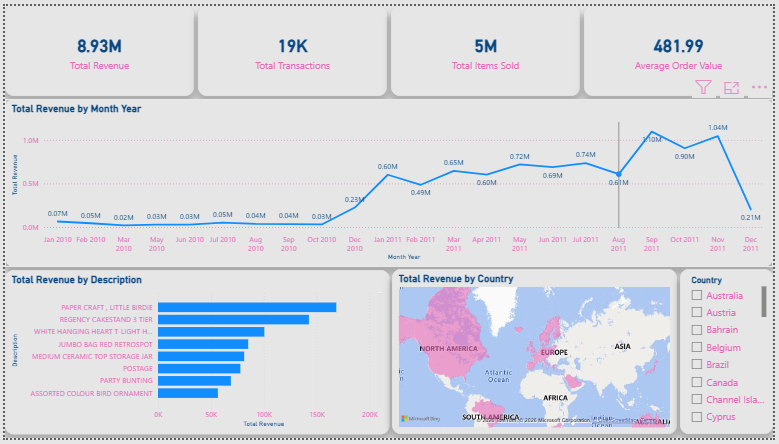

Layout of this report page (visuals, bound fields, positions):
{"tool":"powerbi","page":{"name":"Executive Sales Overview","canvas":[1280,720],"ordinal":0},"visuals":[{"type":"card","fields":{"Values":["_Measures.Total Revenue"]},"box":[0,0,315,150],"z":0},{"type":"card","fields":{"Values":["_Measures.Total Transactions"]},"box":[321,0,315,150],"z":1000},{"type":"card","fields":{"Values":["_Measures.Total Items Sold"]},"box":[643,0,315,150],"z":2000},{"type":"card","fields":{"Values":["_Measures.Average Order Value"]},"box":[965,0,315,150],"z":3000},{"type":"lineChart","fields":{"Category":["DateTable.Month Year"],"Y":["_Measures.Total Revenue"]},"box":[0,155.5,1280,280],"z":3500},{"type":"clusteredBarChart","fields":{"Category":["public online_retail_clean.Description"],"Y":["_Measures.Total Revenue"]},"box":[0,440.7,640.8,273.7],"z":4000},{"type":"filledMap","fields":{"Category":["public online_retail_clean.Country"]},"box":[645,438.8,475,275],"z":5000},{"type":"slicer","fields":{"Values":["public online_retail_clean.Country"]},"box":[1124.5,438.8,155.5,275],"z":6000}]}

Visuals, with their boxes in screenshot pixels (x1, y1, x2, y2), scaled from the page's 1280x720 canvas onto the 779x444 screenshot:
card - _Measures.Total Revenue: {"x1": 0, "y1": 0, "x2": 192, "y2": 92}
card - _Measures.Total Transactions: {"x1": 195, "y1": 0, "x2": 387, "y2": 92}
card - _Measures.Total Items Sold: {"x1": 391, "y1": 0, "x2": 583, "y2": 92}
card - _Measures.Average Order Value: {"x1": 587, "y1": 0, "x2": 778, "y2": 92}
lineChart - DateTable.Month Year x _Measures.Total Revenue: {"x1": 0, "y1": 96, "x2": 778, "y2": 269}
clusteredBarChart - public online_retail_clean.Description x _Measures.Total Revenue: {"x1": 0, "y1": 272, "x2": 390, "y2": 441}
filledMap - public online_retail_clean.Country: {"x1": 393, "y1": 271, "x2": 682, "y2": 440}
slicer - public online_retail_clean.Country: {"x1": 684, "y1": 271, "x2": 778, "y2": 440}
